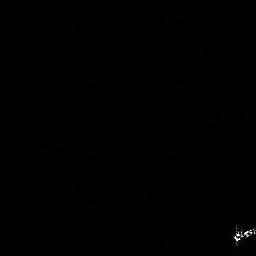ship: (230, 222, 256, 248)
